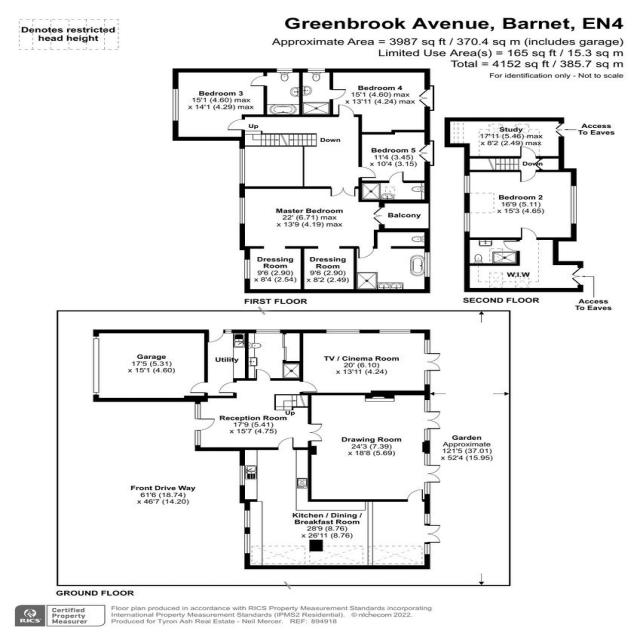DOOR: (194, 418, 216, 431), (357, 166, 377, 179), (520, 169, 537, 183), (277, 437, 294, 451), (338, 104, 356, 117), (227, 118, 245, 131), (190, 381, 208, 394), (249, 75, 268, 87), (502, 240, 521, 252), (218, 382, 237, 394), (521, 227, 537, 241), (208, 329, 224, 343), (357, 246, 374, 259), (388, 171, 405, 184), (520, 146, 537, 159), (329, 89, 347, 101), (407, 489, 423, 502), (256, 368, 271, 381)
ROOM: (239, 186, 385, 259), (463, 168, 577, 242), (329, 68, 434, 135), (172, 68, 268, 141), (444, 117, 565, 159), (358, 129, 434, 183), (244, 246, 305, 294), (300, 246, 357, 293)
WINDOW: (238, 148, 246, 184), (570, 185, 577, 224), (172, 88, 179, 122), (238, 197, 245, 224), (424, 252, 431, 277), (325, 329, 360, 334), (379, 329, 412, 334), (239, 465, 246, 486), (244, 533, 251, 554), (463, 175, 471, 193), (244, 259, 251, 279), (463, 212, 470, 232), (194, 430, 202, 446), (244, 510, 251, 528), (256, 329, 281, 334), (194, 404, 201, 419), (424, 339, 431, 354), (424, 370, 431, 385), (307, 68, 326, 73), (424, 399, 431, 412), (424, 453, 431, 466), (424, 482, 431, 495), (276, 68, 293, 73), (424, 429, 431, 441), (424, 513, 431, 524), (424, 544, 431, 555), (224, 329, 233, 334)
